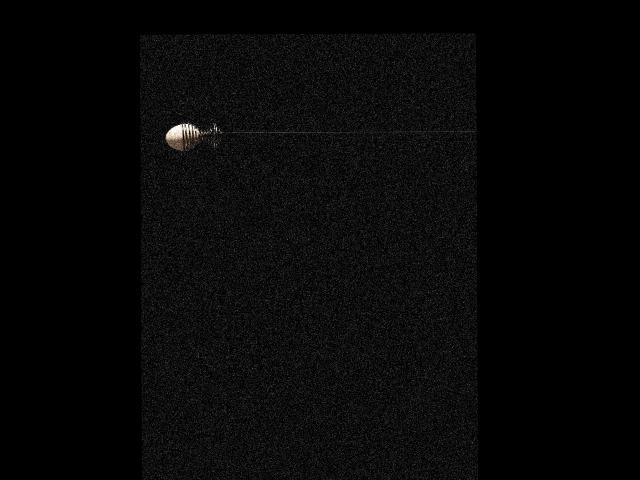egg: (165, 123, 199, 150)
